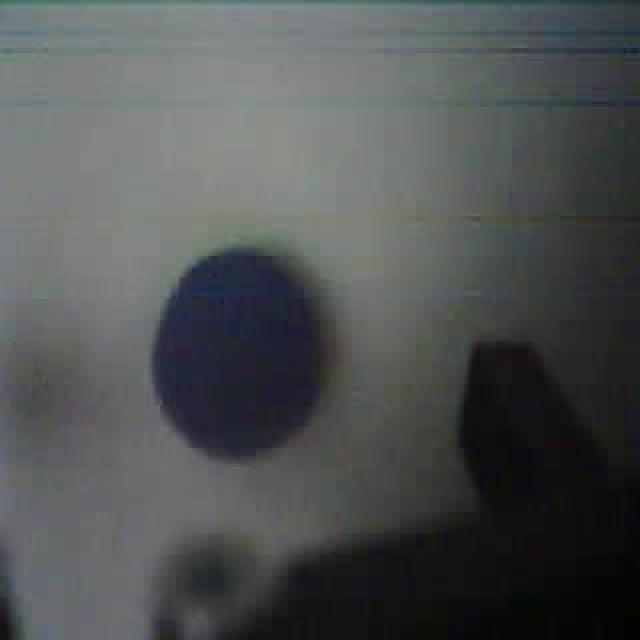blue_ball: (148, 240, 330, 464)
